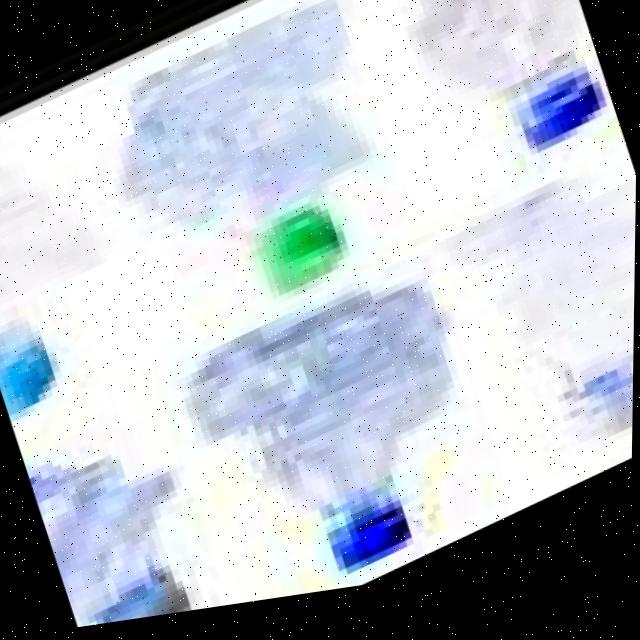sise: (84, 0, 451, 383), (171, 239, 519, 619), (426, 153, 637, 525), (369, 0, 627, 242), (23, 389, 246, 636), (0, 104, 159, 435)
